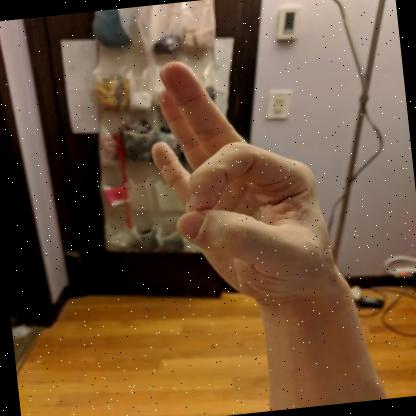F: (151, 61, 346, 311)
